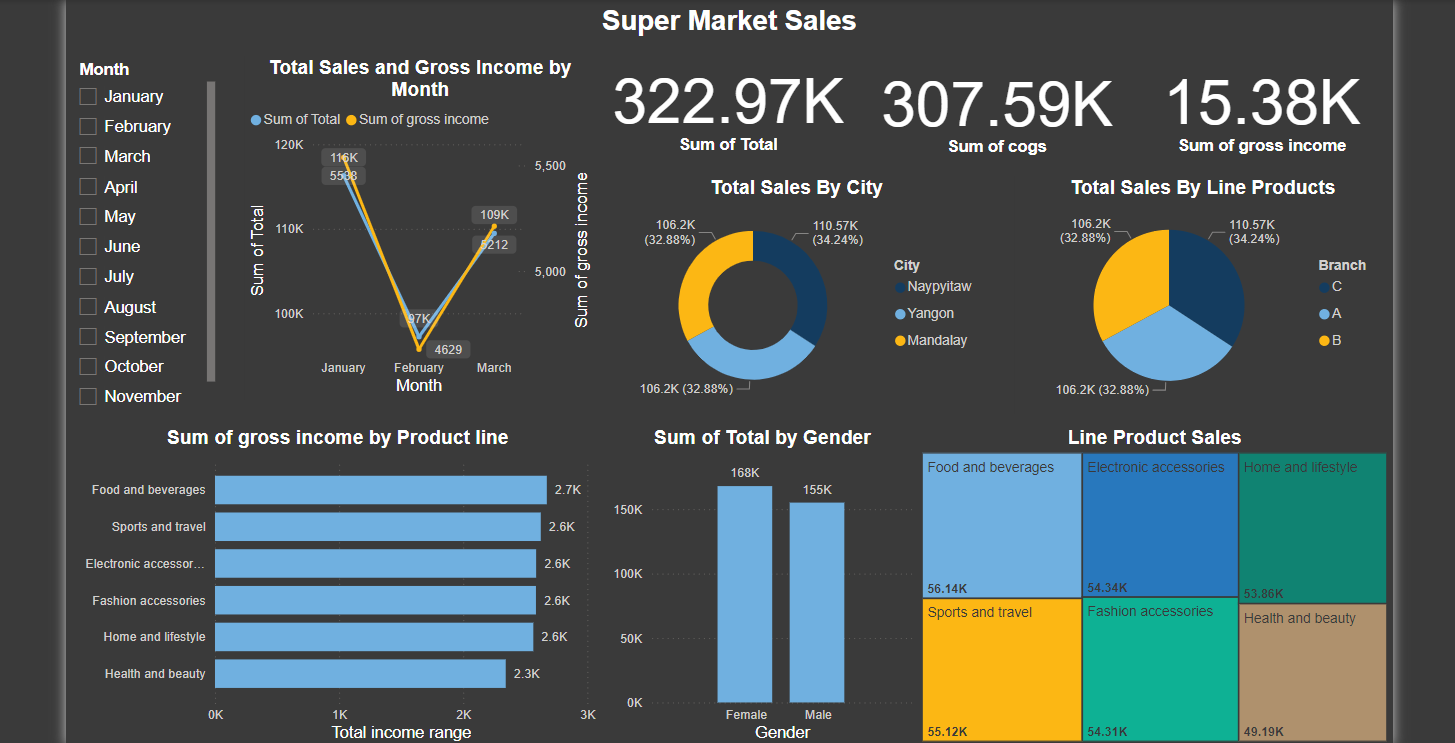

This screenshot's page, from the dashboard's own definition file:
{"tool":"powerbi","page":{"name":"Overview","canvas":[1280,720],"ordinal":0},"visuals":[{"type":"card","fields":{"Values":["Sum(supermarket_sales.gross income)"]},"box":[1029.6,41.6,250.7,123.5],"z":0},{"type":"card","fields":{"Values":["Sum(supermarket_sales.Total)"]},"box":[512.7,39.8,253.4,124.3],"z":1000},{"type":"card","fields":{"Values":["Sum(supermarket_sales.cogs)"]},"box":[768.5,42.2,260.6,124.3],"z":2000},{"type":"pieChart","title":"Total Sales By Line Products","fields":{"Category":["supermarket_sales.Branch"],"Y":["Sum(supermarket_sales.Total)"]},"box":[916.1,170.5,363.2,228.7],"z":3000},{"type":"donutChart","title":"Total Sales By City","fields":{"Y":["Sum(supermarket_sales.Total)"],"Category":["supermarket_sales.City"]},"box":[522.1,170,365.6,228.7],"z":4000},{"type":"treemap","title":"Line Product Sales","fields":{"Values":["Sum(supermarket_sales.Total)"],"Group":["supermarket_sales.Product line"]},"box":[821.7,410.9,458.6,309.4],"z":5000},{"type":"columnChart","fields":{"Category":["supermarket_sales.Gender"],"Y":["Sum(supermarket_sales.Total)"]},"box":[522.1,410.9,299.6,309.4],"z":6000},{"type":"slicer","fields":{"Values":["supermarket_sales.Date.Variation.Date Hierarchy.Month"]},"box":[0,52.8,149.2,348.5],"z":7000},{"type":"clusteredBarChart","fields":{"Category":["supermarket_sales.Product line"],"Y":["Sum(supermarket_sales.gross income)"]},"box":[0,410.9,524.6,309.4],"z":8000},{"type":"lineChart","title":"Total Sales and Gross Income by Month","fields":{"Y":["Sum(supermarket_sales.Total)"],"Y2":["Sum(supermarket_sales.gross income)"],"Category":["supermarket_sales.Date.Variation.Date Hierarchy.Month"]},"box":[172.4,53.8,338.7,331.4],"z":9000},{"type":"textbox","box":[0,0,1280.3,53.8],"z":10000}]}

Visuals, with their boxes on the page's 1280x720 design canvas (x1, y1, x2, y2). These are canvas units, not pixel positions in the 1455x743 screenshot, which may show the page scaled, cropped or inside an application window:
card - Sum(supermarket_sales.gross income): pyautogui.locateOnScreen(1030, 42, 1280, 165)
card - Sum(supermarket_sales.Total): pyautogui.locateOnScreen(513, 40, 766, 164)
card - Sum(supermarket_sales.cogs): pyautogui.locateOnScreen(768, 42, 1029, 166)
"Total Sales By Line Products" pieChart: pyautogui.locateOnScreen(916, 170, 1279, 399)
"Total Sales By City" donutChart: pyautogui.locateOnScreen(522, 170, 888, 399)
"Line Product Sales" treemap: pyautogui.locateOnScreen(822, 411, 1280, 720)
columnChart - supermarket_sales.Gender x Sum(supermarket_sales.Total): pyautogui.locateOnScreen(522, 411, 822, 720)
slicer - supermarket_sales.Date.Variation.Date Hierarchy.Month: pyautogui.locateOnScreen(0, 53, 149, 401)
clusteredBarChart - supermarket_sales.Product line x Sum(supermarket_sales.gross income): pyautogui.locateOnScreen(0, 411, 525, 720)
"Total Sales and Gross Income by Month" lineChart: pyautogui.locateOnScreen(172, 54, 511, 385)
textbox: pyautogui.locateOnScreen(0, 0, 1280, 54)
